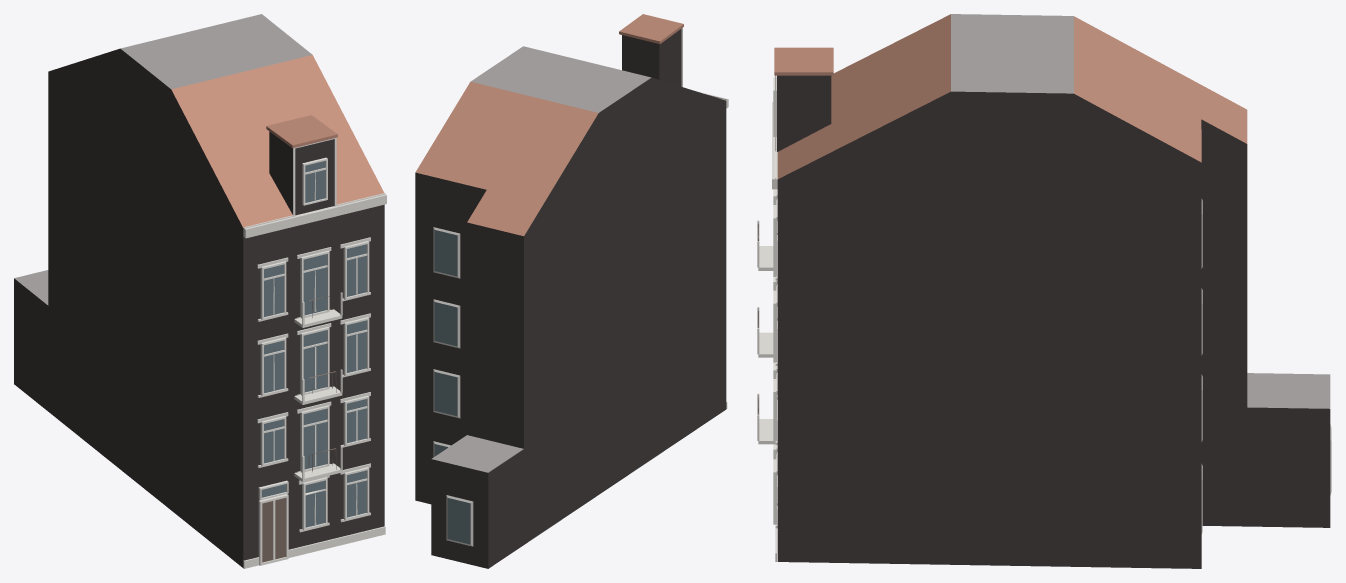
Rendered from chunk-face-pretorius-1-33-r1.lod2.glb.
The picture shows the model from 3 angles, left to right: view 1: azimuth 30°, elevation 25°; view 2: azimuth 150°, elevation 25°; view 3: azimuth 270°, elevation 25°; orthographic projection. The views are drawn at different scales.
Visible parts, largest first — view 1: lod2; view 2: lod2; view 3: lod2.
Boxes of the visible parts, box(x1,y1,x2,y2) form: lod2: box(14, 14, 386, 568); lod2: box(415, 14, 728, 568); lod2: box(757, 14, 1331, 568).
Size of the model in its own units: 6.4 by 16.68 by 18.35.
